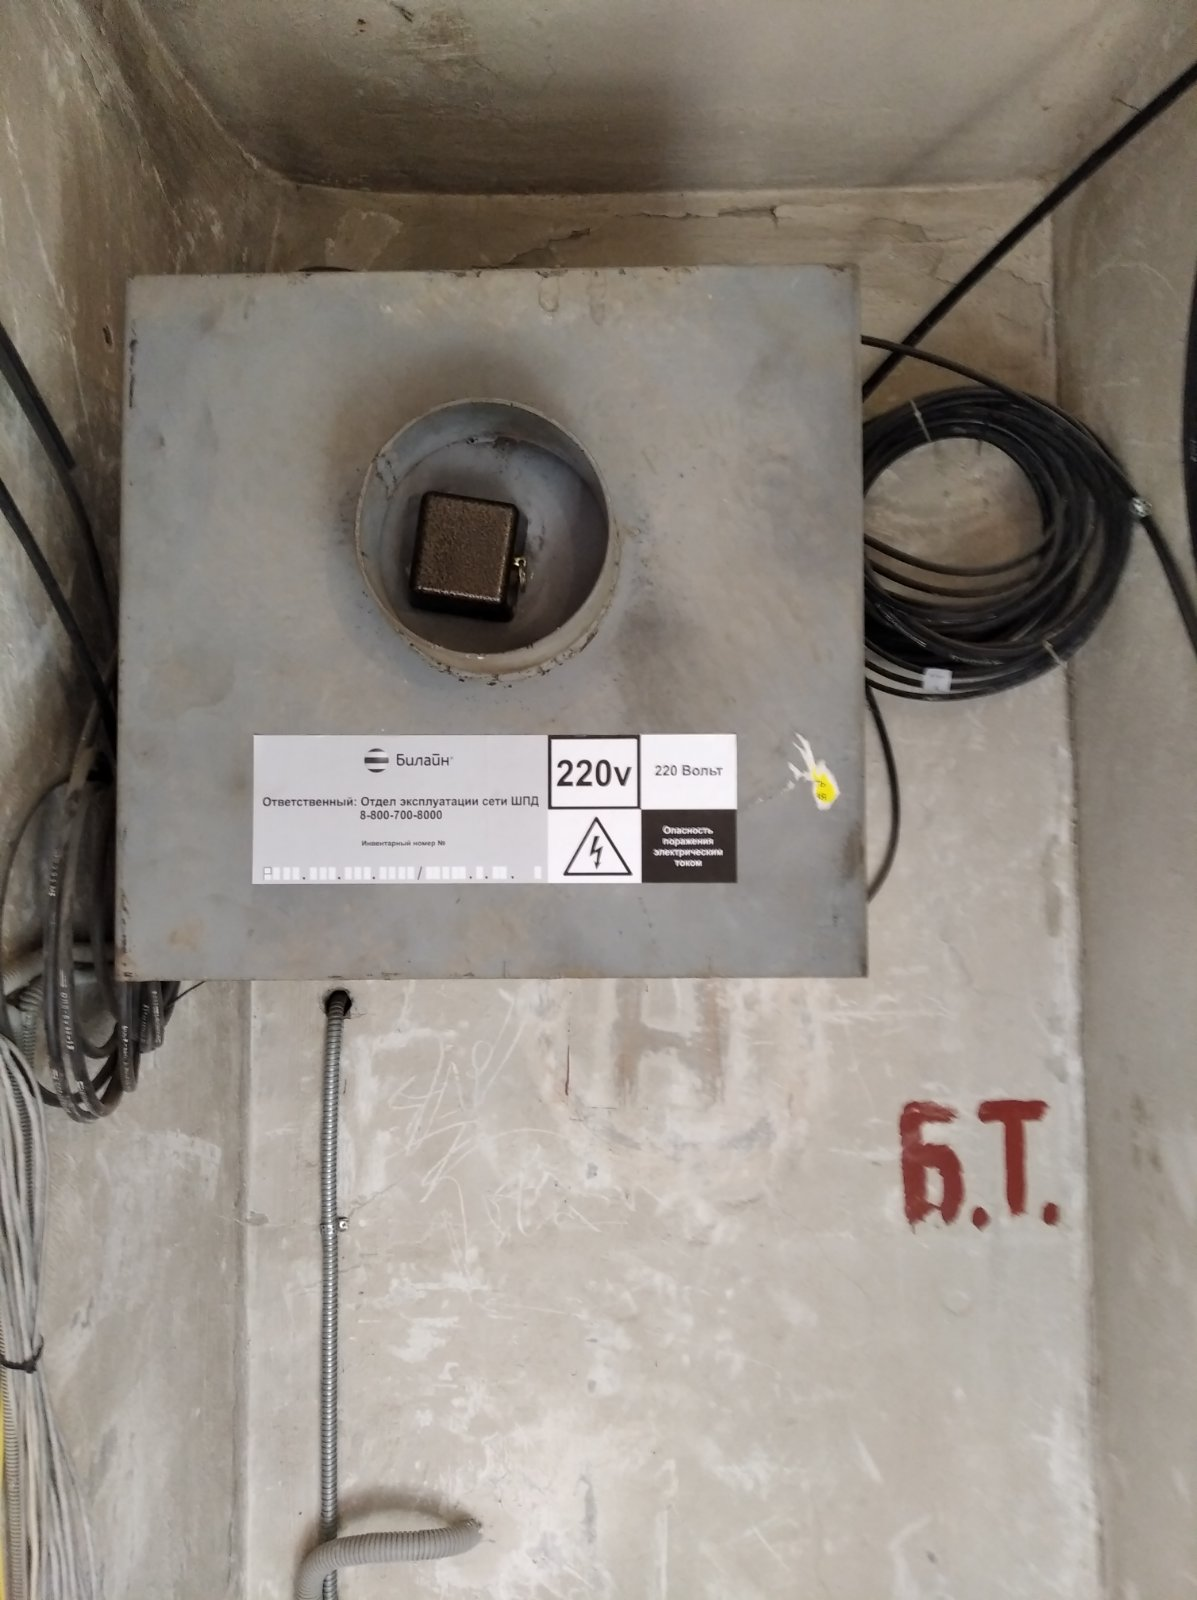shta-9: (101, 243, 885, 1000)
